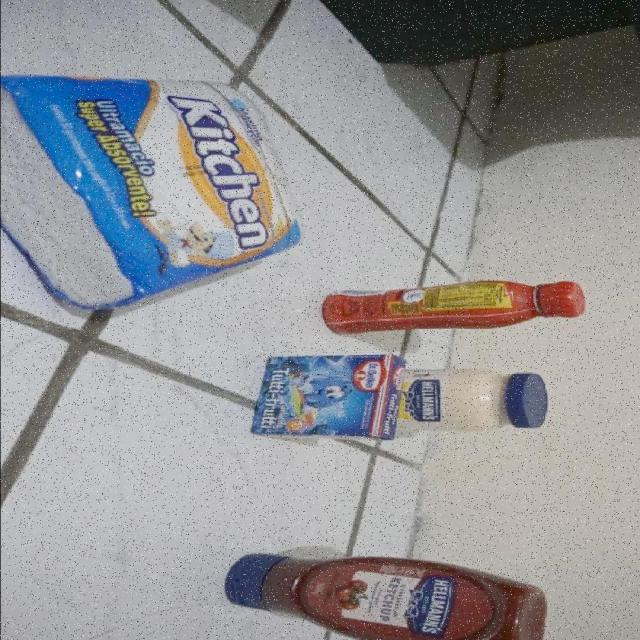ChocolateMilk: (322, 278, 589, 339)
Gelatine: (251, 351, 409, 440)
Ketchup: (224, 550, 549, 640)
Mayonnaise: (401, 367, 550, 431)
Napkin: (0, 68, 309, 316)
